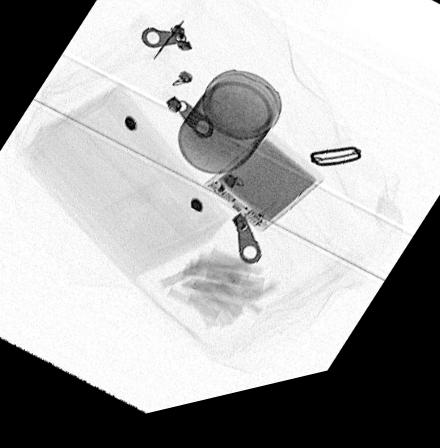Powerbank: (202, 145, 325, 247)
